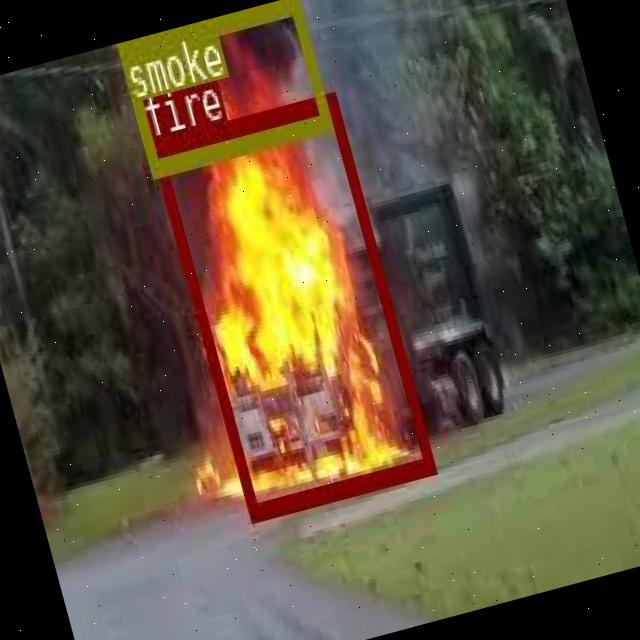fire: (148, 88, 434, 518)
smoke: (114, 0, 328, 172)
